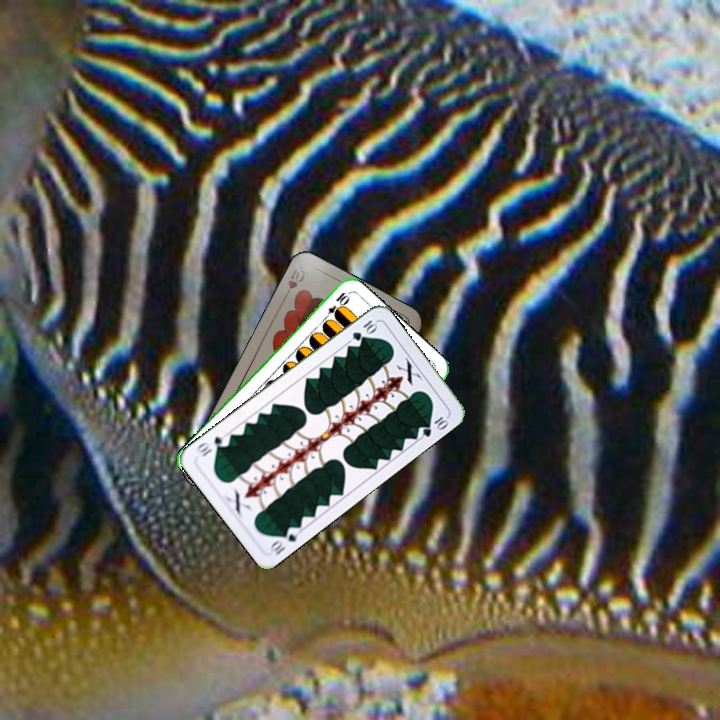E10: (319, 288, 351, 324)
G10: (266, 522, 303, 558), (348, 316, 380, 343)
H10: (279, 264, 308, 302)
